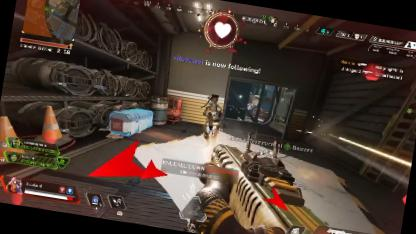Target: (200, 93, 227, 149)
